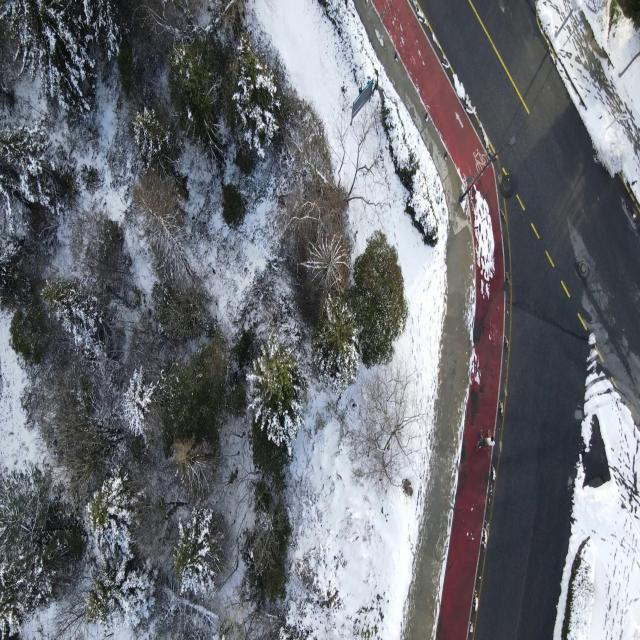p3rson: (476, 430, 487, 449), (486, 430, 496, 446)
